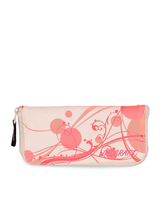other: (7, 100, 153, 169)
